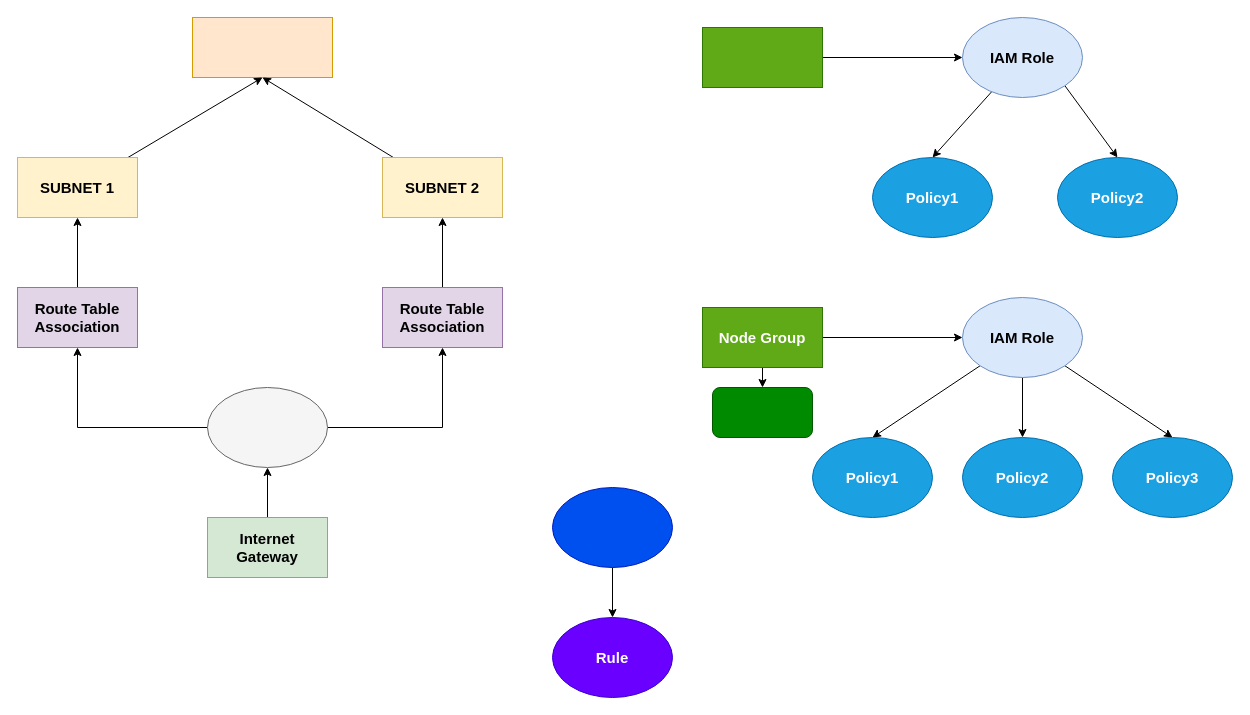
This 1250x715 diagram has some shape labels left out. The shapes that lost their labels are listed below. From the top down, each one's box as (x1, y1, x2, y2) in pixels, then its label:
(192, 16, 332, 78): VPC
(702, 26, 822, 88): EKS Cluster
(206, 386, 328, 468): Route Table
(712, 386, 812, 438): Worker Node
(552, 486, 672, 568): Security Group
